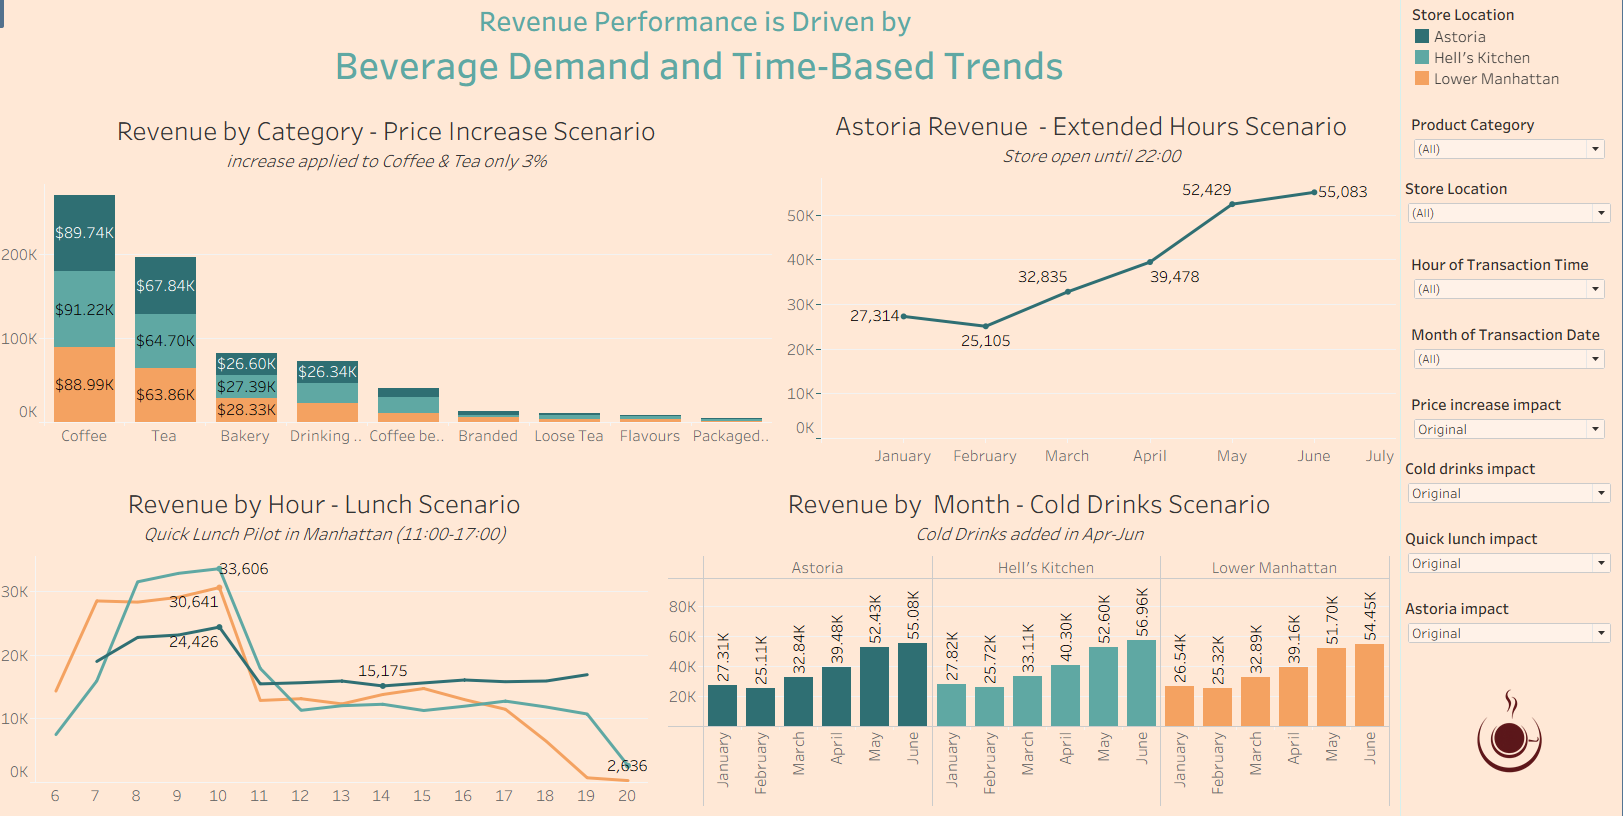

What the dashboard file says about the page in this screenshot:
{"tool":"tableau","page":{"name":"Coffee Shop Sales","canvas":[1000,1000],"units":"permille","ordinal":0},"visuals":[{"type":"text","box":[8.4,15.9,850.9,123]},{"type":"legend","title":"Revenue by hour  - Lunch Scenario","param":"[federated.1d0t0ht1sdwfgx124z9x20i3k1ks].[none:store_location:nk]","box":[860,17,131,126]},{"type":"worksheet","title":"Revenue by Category - Price Increase Scenario","mark":"Automatic","rows":["Calculation_0798580718395396"],"cols":["product_category"],"box":[8.4,138.9,477.9,421.8]},{"type":"worksheet","title":"Astoria revenue by month - Extended Hours","mark":"Automatic","rows":["Calculation_0914305381474316"],"cols":["transaction_date"],"box":[486.4,138.9,373,421.8]},{"type":"filter","title":"Revenue by Category - Price Increase Scenario","param":"[federated.1d0t0ht1sdwfgx124z9x20i3k1ks].[none:product_category:nk]","box":[860,143,131,79.5]},{"type":"filter","title":"Revenue by hour  - Lunch Scenario","param":"[federated.1d0t0ht1sdwfgx124z9x20i3k1ks].[none:store_location:nk]","box":[860,222.5,131,79.5]},{"type":"filter","title":"Revenue by hour  - Lunch Scenario","param":"[federated.1d0t0ht1sdwfgx124z9x20i3k1ks].[hr:transaction_time:ok]","box":[860,301.9,131,79.5]},{"type":"filter","title":"Revenue by month  - Cold Drinks Scenario","param":"[federated.1d0t0ht1sdwfgx124z9x20i3k1ks].[mn:transaction_date:ok]","box":[860,381.4,131,79.5]},{"type":"parameter","param":"[Parameters].[Parameter 1]","box":[860,460.8,131,79.5]},{"type":"parameter","param":"[Parameters].[Parameter 2]","box":[860,540.3,131,79.5]},{"type":"worksheet","title":"Revenue by hour  - Lunch Scenario","mark":"Automatic","rows":["Calculation_0914305362182150"],"cols":["transaction_time"],"box":[8.4,560.7,403.1,391.6]},{"type":"worksheet","title":"Revenue by month  - Cold Drinks Scenario","mark":"Bar","rows":["Calculation_0914305021915136"],"cols":["store_location","transaction_date"],"box":[411.6,560.7,447.8,391.6]},{"type":"parameter","param":"[Parameters].[Parameter 3]","box":[860,619.7,131,79.5]},{"type":"parameter","param":"[Parameters].[Parameter 4]","box":[860,699.2,131,79.5]},{"type":"image","param":"Image/ChatGPT Image Apr 16, 2026, 10_08_07 PM.png","box":[860,778.6,131,172.6]}]}

Visuals, with their boxes on the dashboard's canvas, which has no fixed pixel size, in thousandths of its width and height (x1, y1, x2, y2). These are canvas units, not pixel positions in the 1623x816 screenshot, which may show the page scaled, cropped or inside an application window:
text: (x1=8, y1=16, x2=859, y2=139)
"Revenue by hour  - Lunch Scenario" legend: (x1=860, y1=17, x2=991, y2=143)
"Revenue by Category - Price Increase Scenario" worksheet: (x1=8, y1=139, x2=486, y2=561)
"Astoria revenue by month - Extended Hours" worksheet: (x1=486, y1=139, x2=859, y2=561)
"Revenue by Category - Price Increase Scenario" filter: (x1=860, y1=143, x2=991, y2=222)
"Revenue by hour  - Lunch Scenario" filter: (x1=860, y1=222, x2=991, y2=302)
"Revenue by hour  - Lunch Scenario" filter: (x1=860, y1=302, x2=991, y2=381)
"Revenue by month  - Cold Drinks Scenario" filter: (x1=860, y1=381, x2=991, y2=461)
parameter: (x1=860, y1=461, x2=991, y2=540)
parameter: (x1=860, y1=540, x2=991, y2=620)
"Revenue by hour  - Lunch Scenario" worksheet: (x1=8, y1=561, x2=412, y2=952)
"Revenue by month  - Cold Drinks Scenario" worksheet (Bar marks): (x1=412, y1=561, x2=859, y2=952)
parameter: (x1=860, y1=620, x2=991, y2=699)
parameter: (x1=860, y1=699, x2=991, y2=779)
image: (x1=860, y1=779, x2=991, y2=951)
